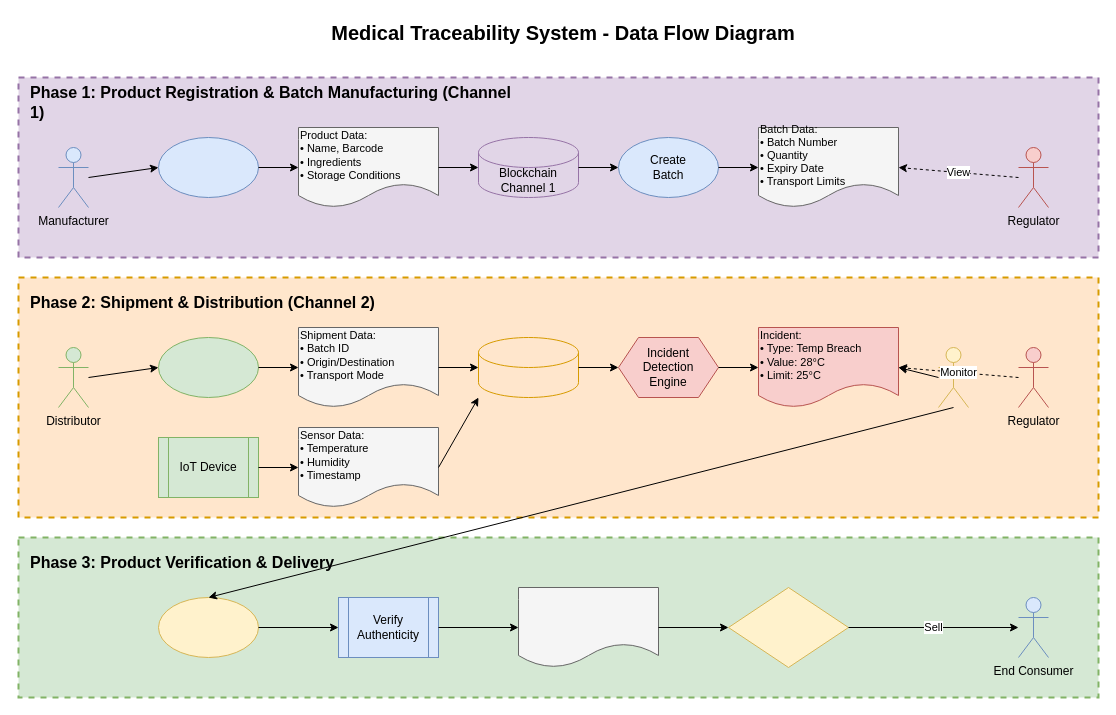
The diagram is 1116 pixels wide and 715 high, and some of its shapes have lost their labels. The centre of each missing label's shape, as x and y in pixels:
"Accept/Reject Delivery" goes at point (788, 627).
"Blockchain Channel 2" goes at point (528, 367).
"Complete History: • Manufacturing • Distribution • Transport Data • Incidents" goes at point (588, 627).
"Create Product" goes at point (208, 167).
"Create Shipment" goes at point (208, 367).
"Pharmacy" goes at point (953, 377).
"Scan Product QR/Barcode" goes at point (208, 627).
